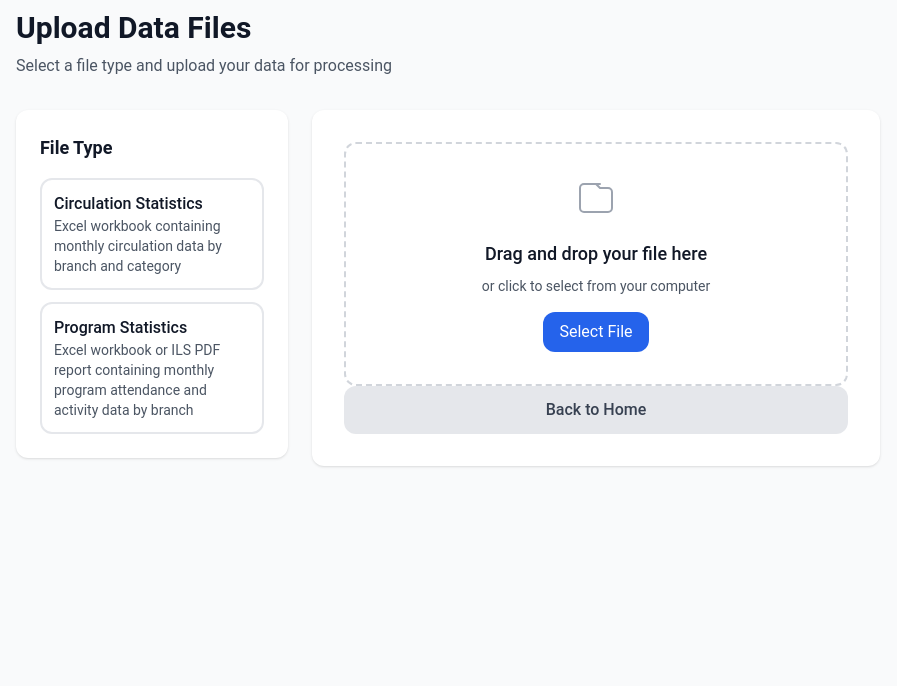
it: Upload Component › shows Program Statistics help text when that type is selected
Step 1. Click the text "Program Statistics" → (121, 328), box [54,318,187,337]
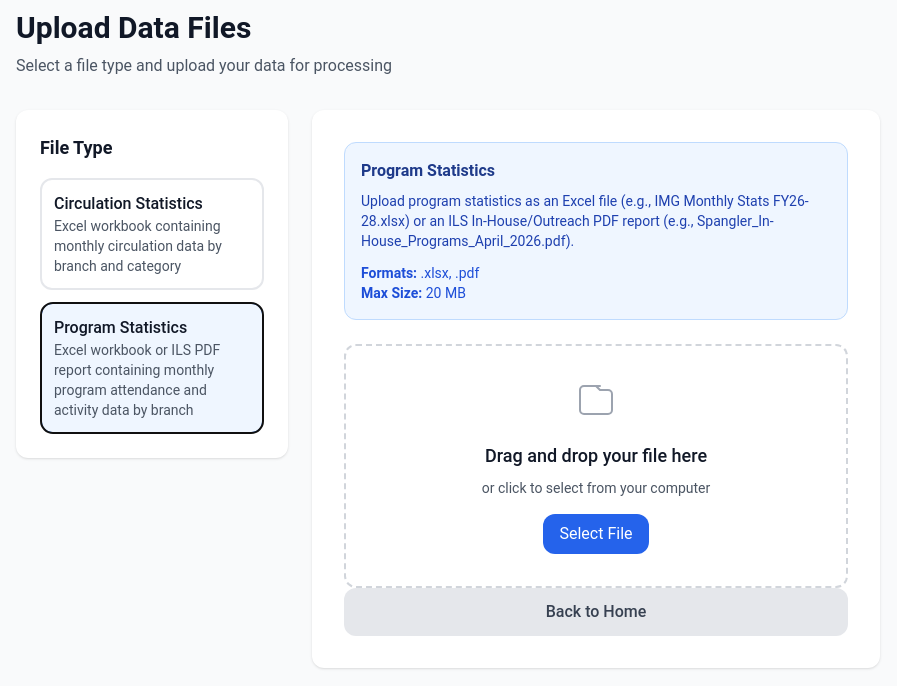
Check: the text "Upload program statistics" is shown, box [361,193,809,249]
